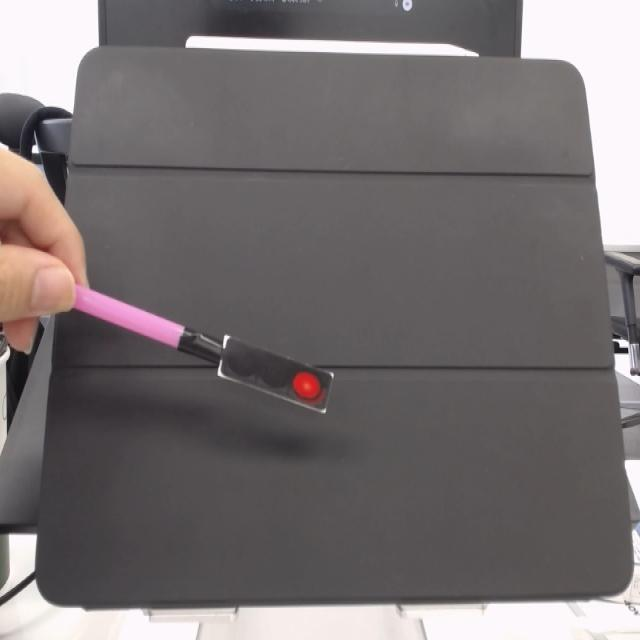traffic light: (222, 339, 335, 415)
